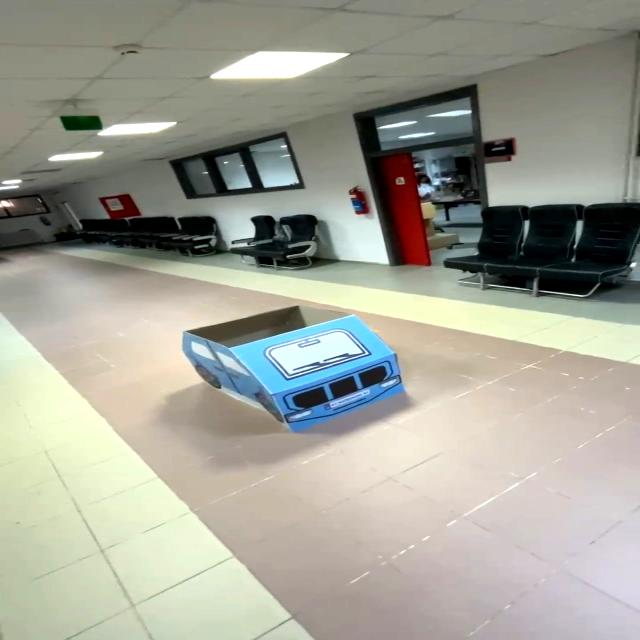blue_car: (162, 290, 420, 451)
